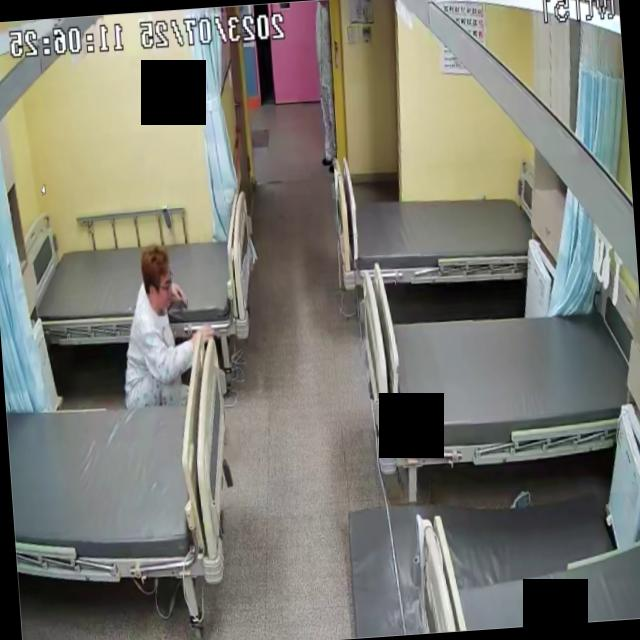bed: (1, 331, 238, 591), (362, 296, 635, 466), (17, 218, 259, 352), (337, 178, 532, 289)
fall: (102, 242, 222, 418)
patient: (104, 244, 218, 420)
